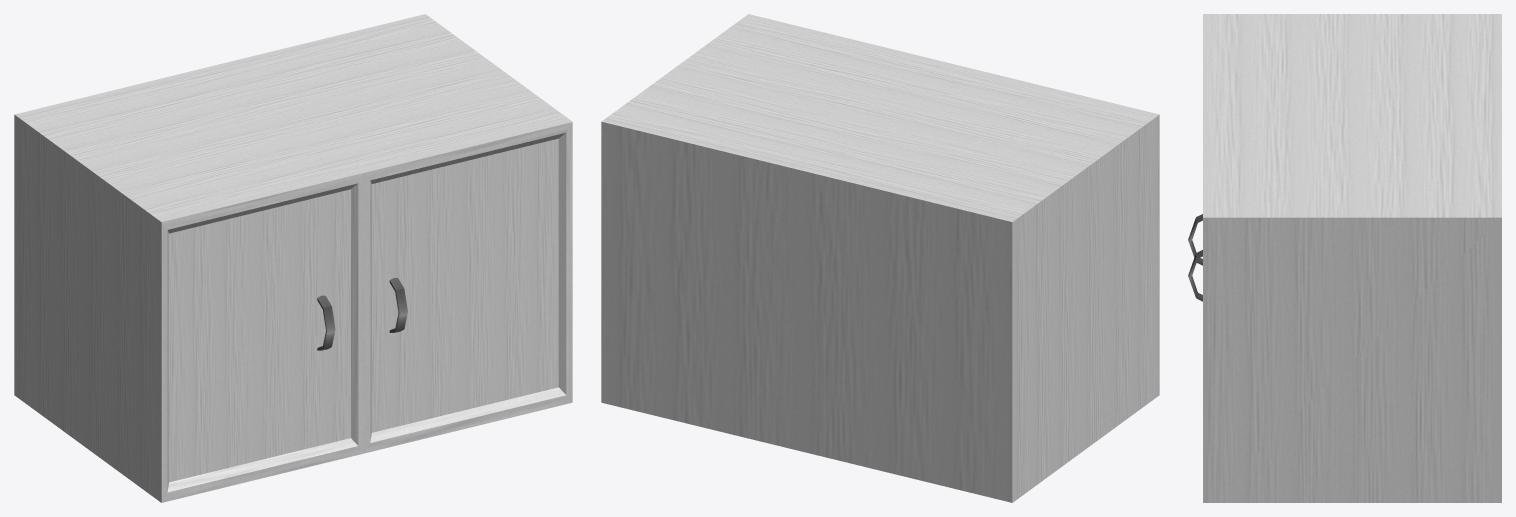
Rendered from Cabinet_A3.FBX.
3 renders of one model, left to right at view 1: azimuth 30°, elevation 25°; view 2: azimuth 150°, elevation 25°; view 3: azimuth 270°, elevation 25°, orthographic.
Parts seen in each view (by area): view 1: Cabinet_01; view 2: Cabinet_01; view 3: Cabinet_01.
Part boxes in pixels (x1=…): Cabinet_01: x1=14, y1=14, x2=572, y2=502; Cabinet_01: x1=601, y1=14, x2=1159, y2=502; Cabinet_01: x1=1188, y1=14, x2=1501, y2=502.
Size of the model in its own units: 125 by 81.56 by 81.32.
